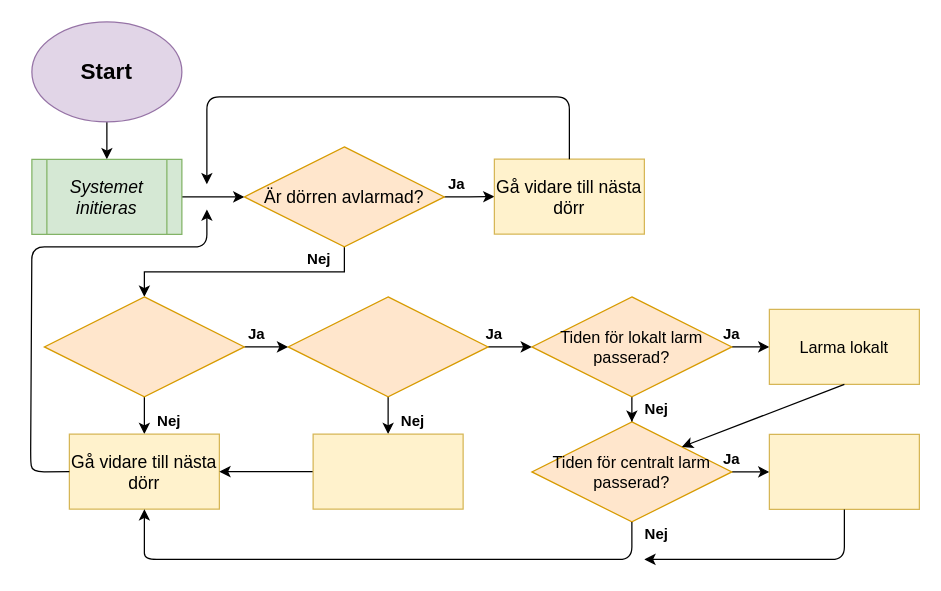
Image size: 941x591. Some labels were removed from this diagram. The shapes that lost their labels are listed below. From the top down, each one's centre as x and y in pixels, then its label:
At (143,346): "Är dörren öppen?".
At (387,346): "Har en timer startats?".
At (387,471): "Starta en timer".
At (843,471): "Larma centralt".
